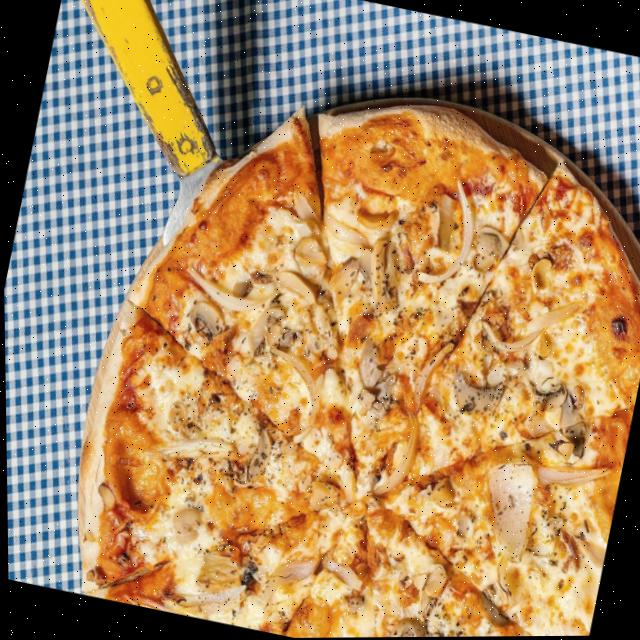mushrooms: (446, 370, 506, 421), (467, 224, 512, 278), (245, 301, 286, 359), (185, 298, 228, 342), (473, 591, 511, 631), (533, 380, 567, 412), (386, 615, 425, 638), (92, 481, 117, 510), (231, 277, 252, 298), (343, 591, 363, 613)
pizza: (44, 43, 640, 640)
